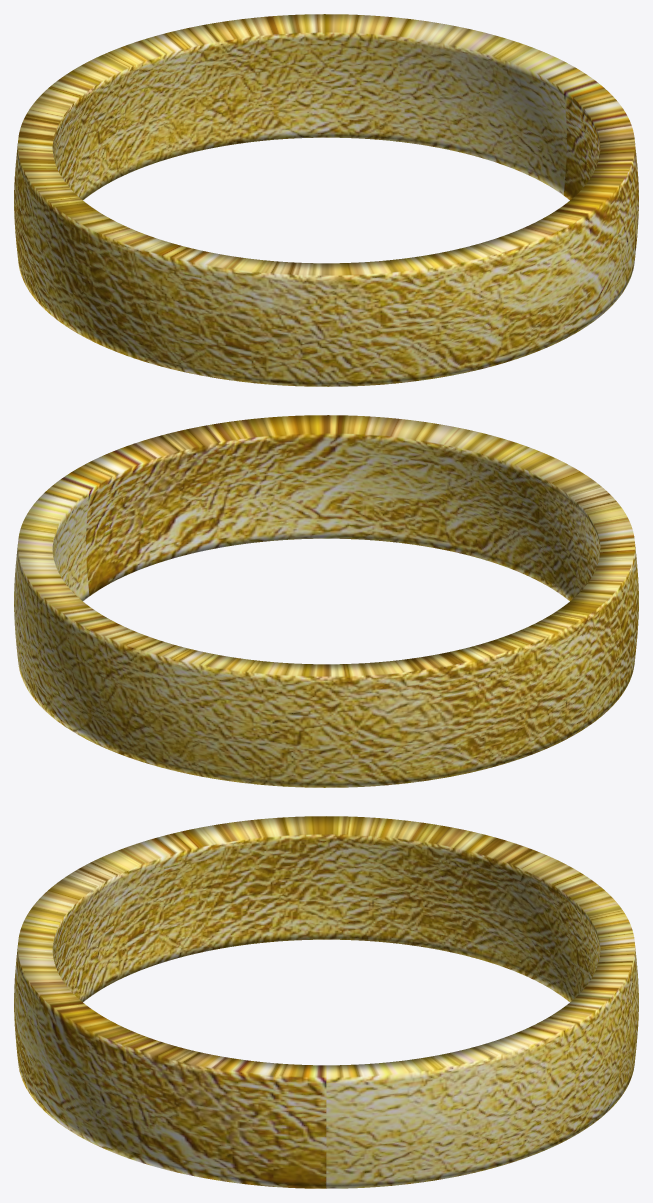
Rendered from anillo1.glb.
3 renders of one model, top to bottom at view 1: azimuth 30°, elevation 25°; view 2: azimuth 150°, elevation 25°; view 3: azimuth 270°, elevation 25°, orthographic.
Parts seen in each view (by area): view 1: Esfera; view 2: Esfera; view 3: Esfera.
Boxes of the visible parts, bbox=[...] form: Esfera: bbox=[14, 14, 638, 386]; Esfera: bbox=[14, 415, 638, 787]; Esfera: bbox=[14, 816, 638, 1188].
Size of the model in its own units: 3.37 by 0.6653 by 3.37.
Materials: 1 (1 with a texture image).
